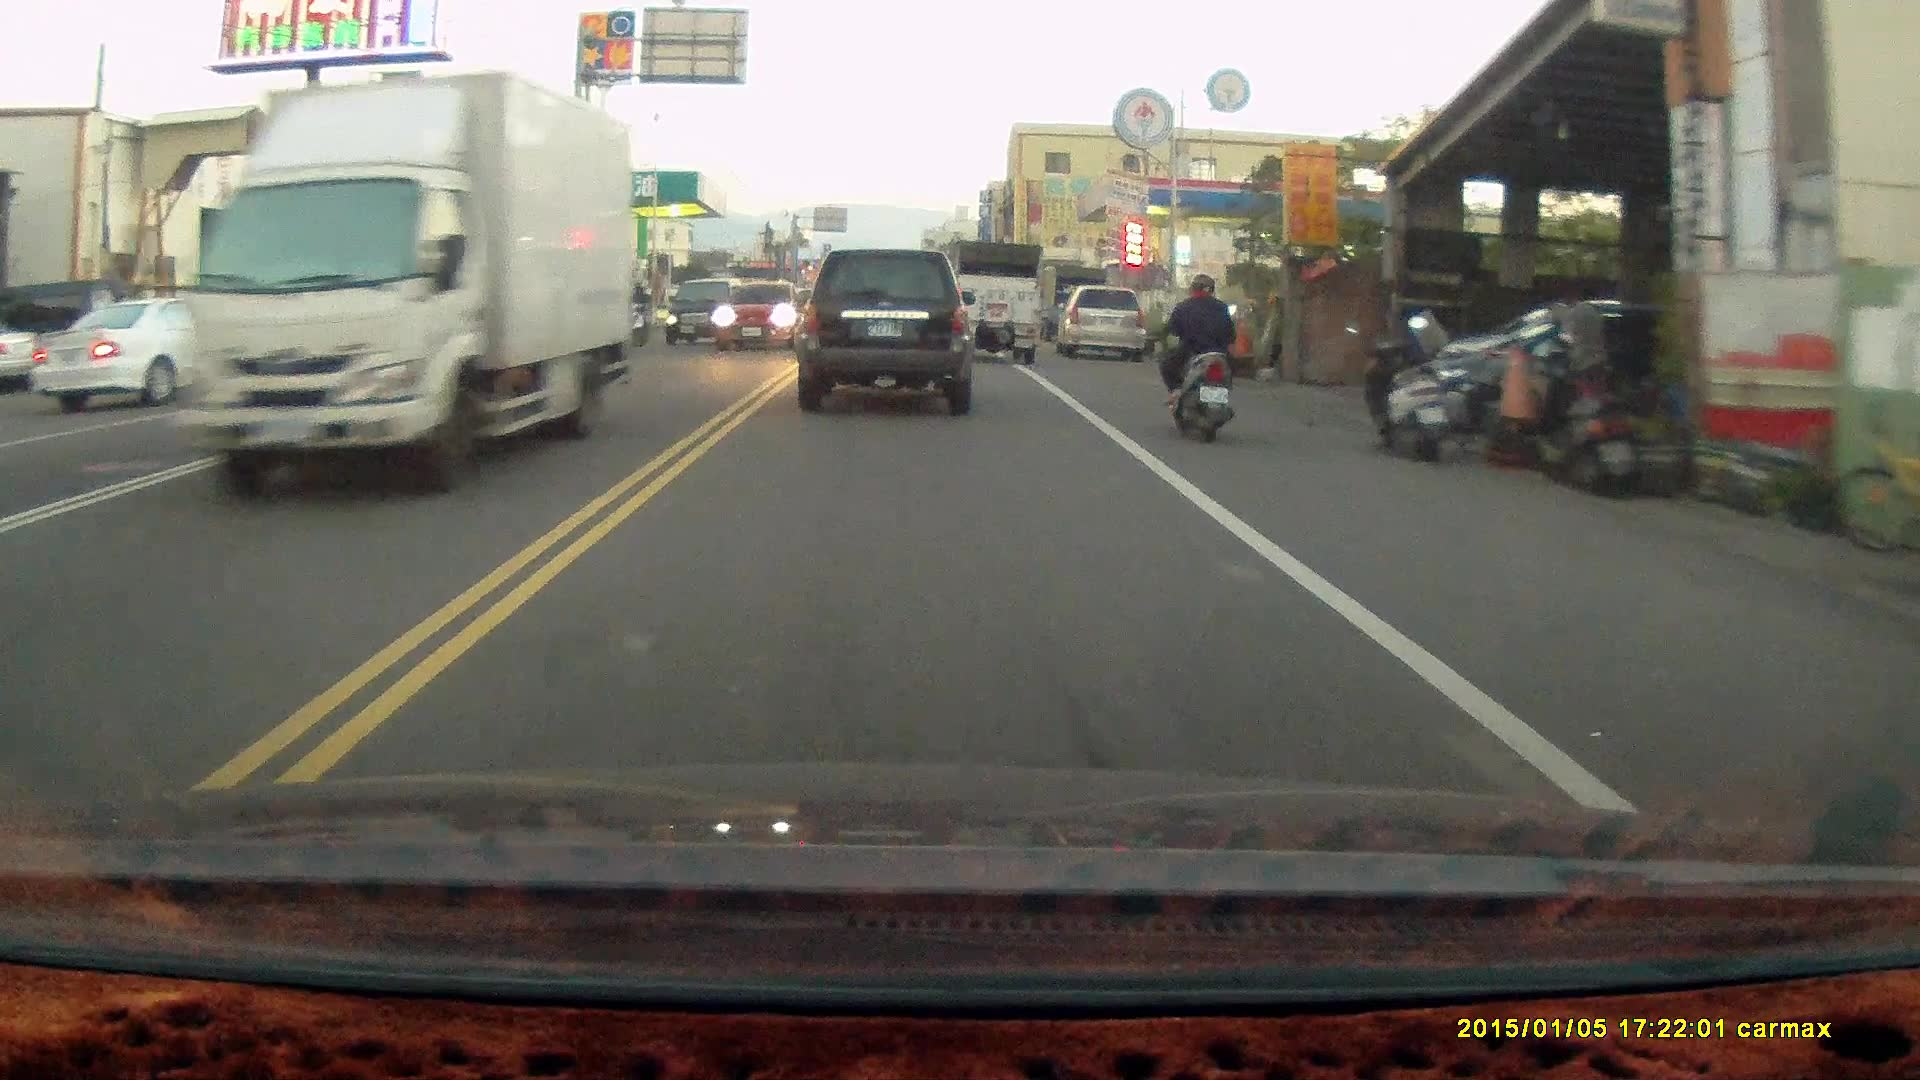pedestrian: (1557, 280, 1609, 423)
rider: (1151, 270, 1240, 443), (617, 278, 654, 347)
vehicle: (177, 72, 642, 494), (792, 246, 976, 416), (37, 299, 223, 406), (950, 237, 1043, 362), (710, 283, 810, 355), (1060, 284, 1145, 363), (1, 304, 45, 389)
